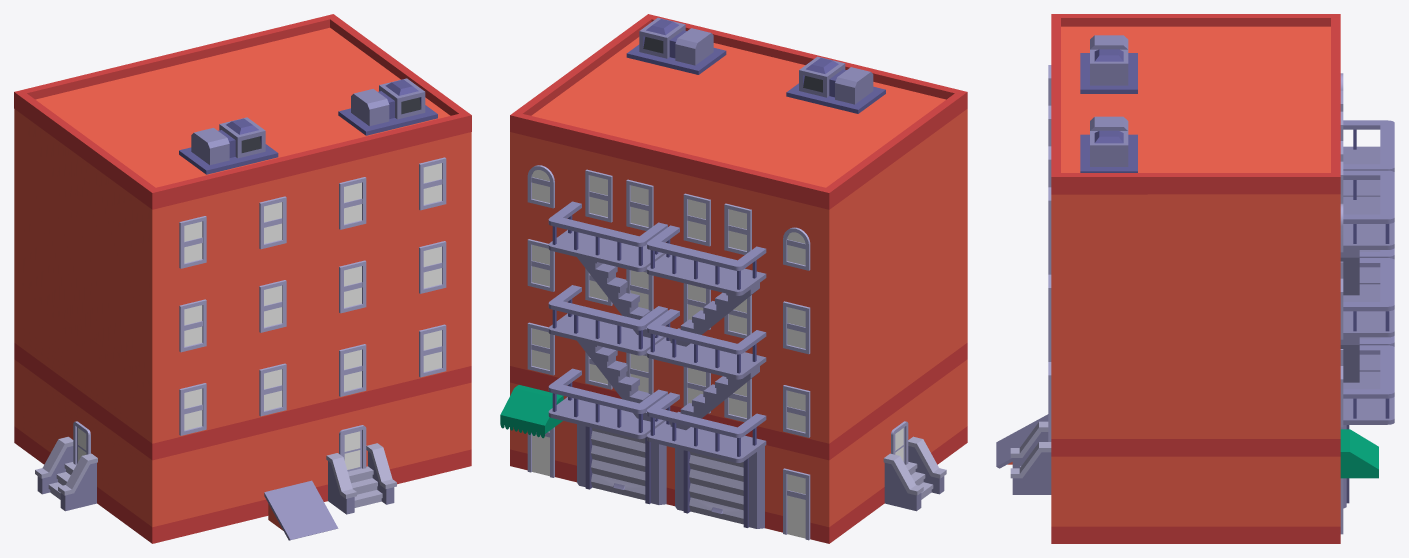
The model's file is Building_01.fbx.
3 renders of one model, left to right at view 1: azimuth 30°, elevation 25°; view 2: azimuth 150°, elevation 25°; view 3: azimuth 270°, elevation 25°, orthographic. The views are drawn at different scales.
Visible parts, largest first — view 1: mergedBlocks; view 2: mergedBlocks; view 3: mergedBlocks.
Part boxes in pixels (bbox=[...]): mergedBlocks: bbox=[14, 14, 471, 543]; mergedBlocks: bbox=[500, 14, 967, 543]; mergedBlocks: bbox=[996, 14, 1394, 543].
Bounding box in the file's own units: 221 × 226 × 207.
